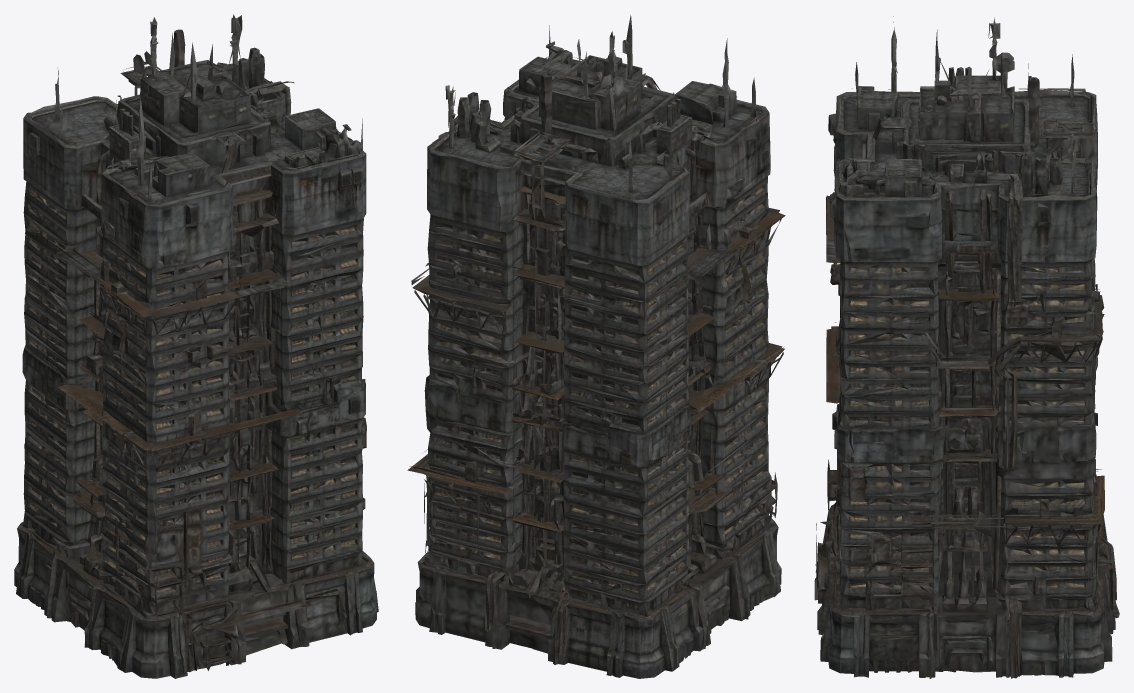
The model's file is fondorblock.glb.
The picture shows the model from 3 angles, left to right: view 1: azimuth 30°, elevation 25°; view 2: azimuth 150°, elevation 25°; view 3: azimuth 270°, elevation 25°; orthographic projection.
Visible parts, largest first — view 1: fondorblock-centred; view 2: fondorblock-centred; view 3: fondorblock-centred.
Part boxes in pixels (box(x1,y1,x2,y2)): fondorblock-centred: box(14, 14, 378, 678); fondorblock-centred: box(407, 15, 785, 678); fondorblock-centred: box(814, 16, 1119, 678).
Size of the model in its own units: 42.2 by 90 by 42.59.
Materials: 1 (1 with a texture image).
